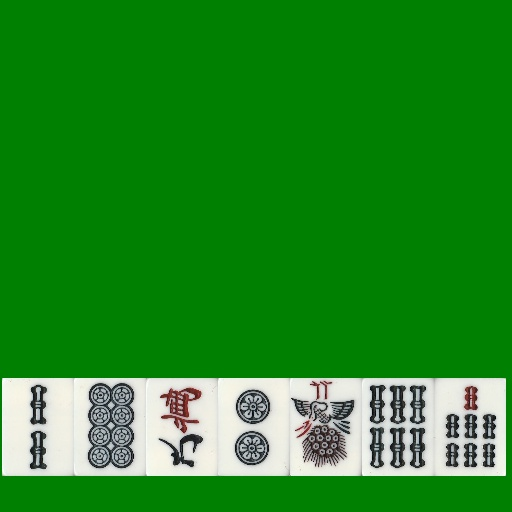1s: (290, 378, 362, 476)
2p: (218, 378, 290, 476)
2s: (2, 378, 74, 476)
6s: (362, 378, 434, 476)
7s: (434, 378, 506, 476)
8p: (74, 378, 146, 476)
9m: (146, 378, 218, 476)
